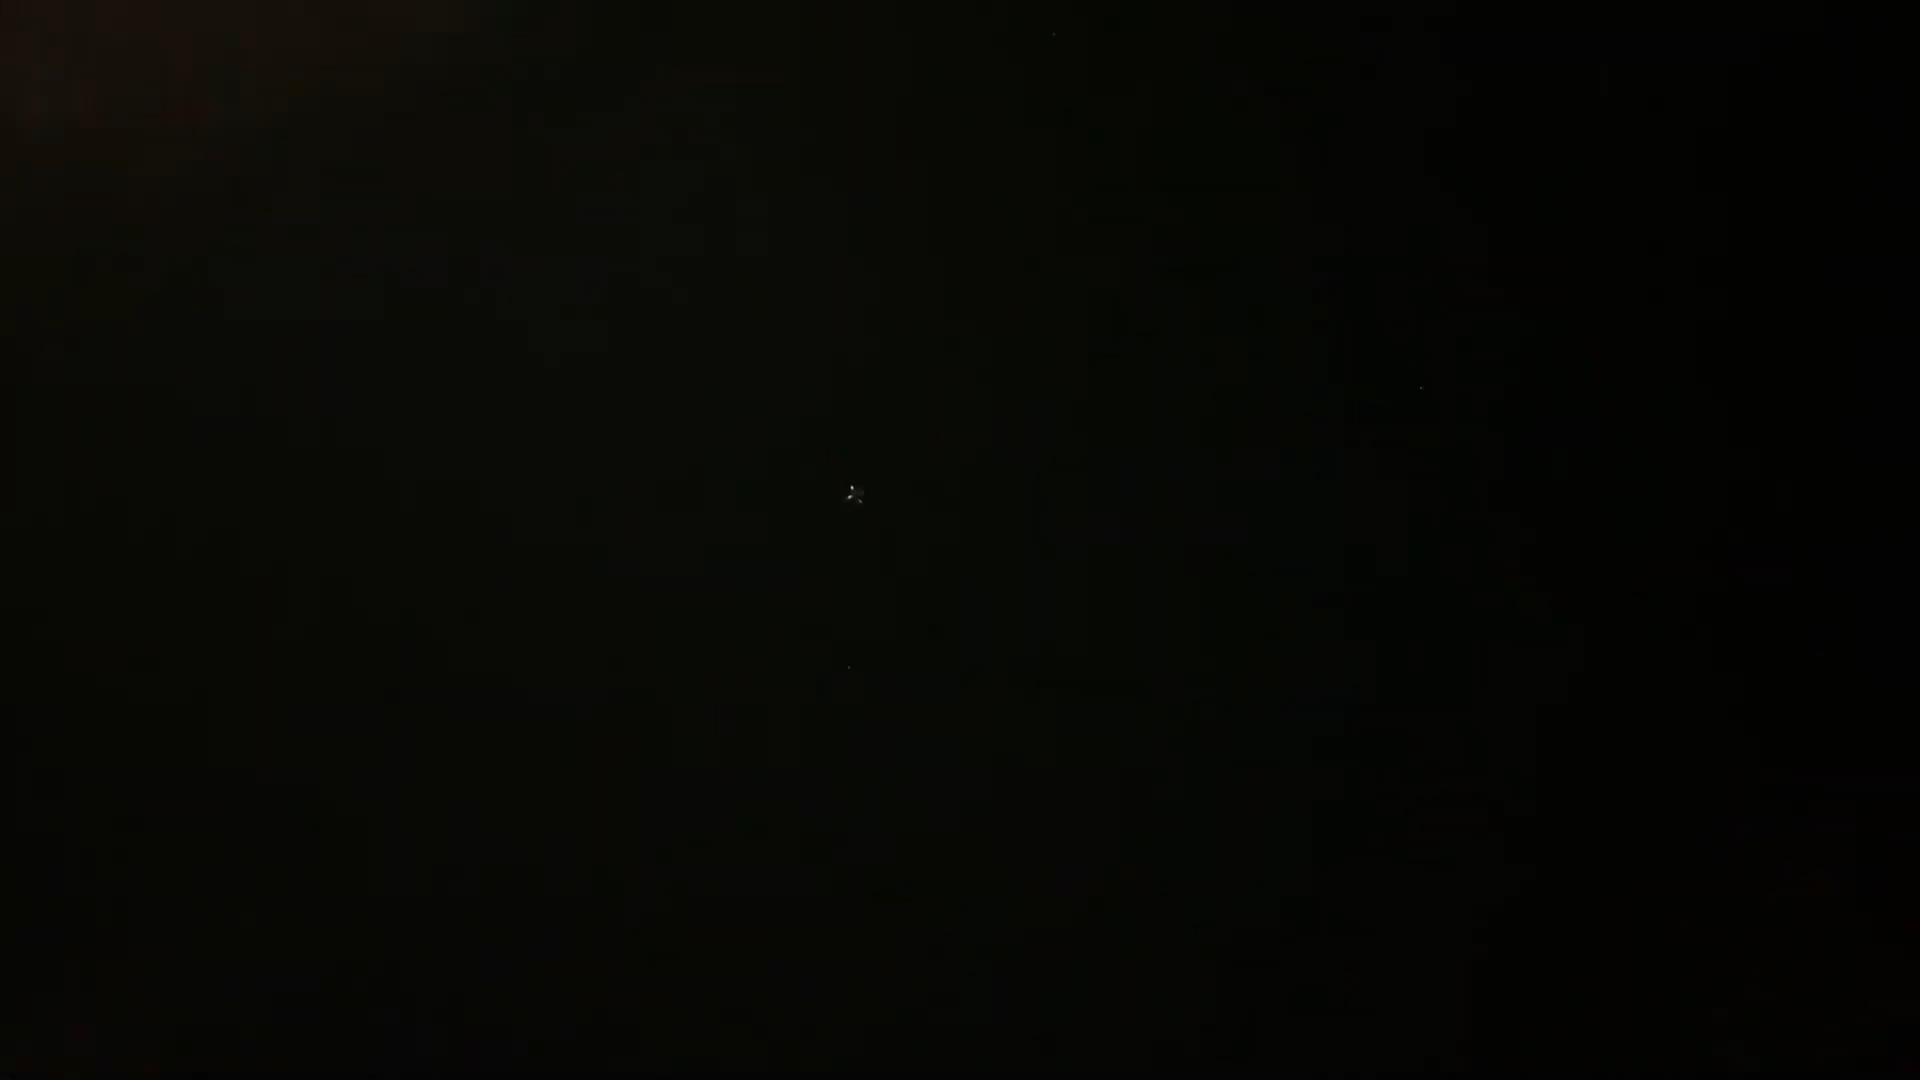Plane: (832, 475, 885, 518)
